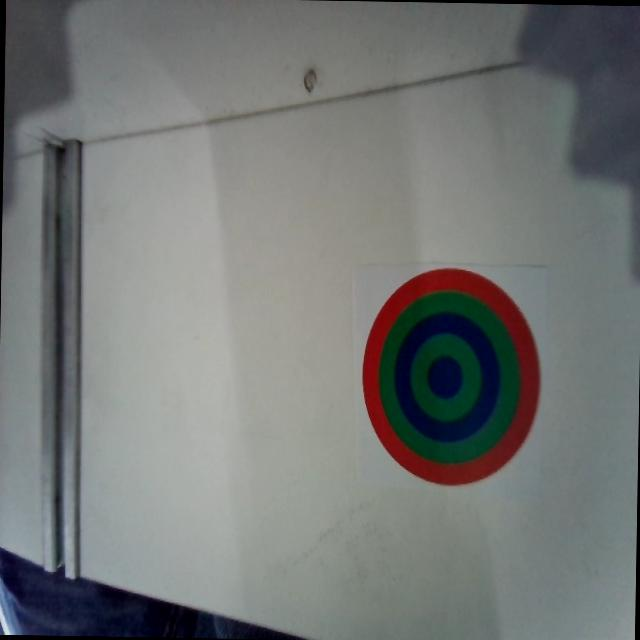cogn: (360, 266, 540, 487)
